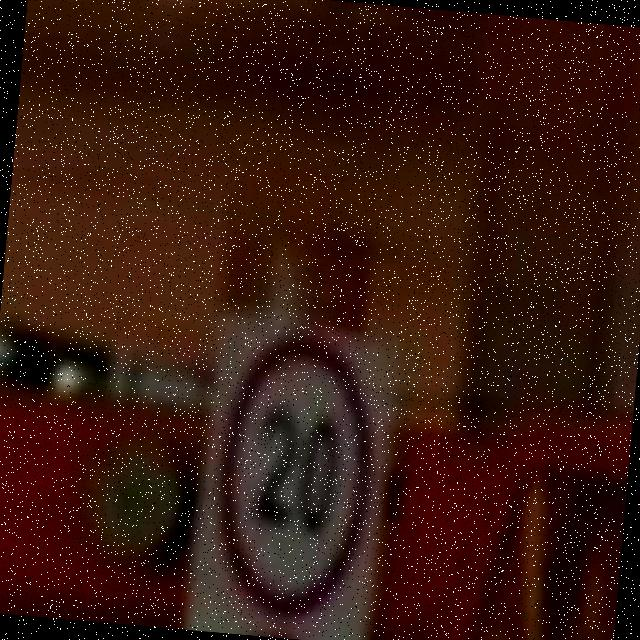Ograniczenie predkosci do 20: (208, 328, 382, 620)
